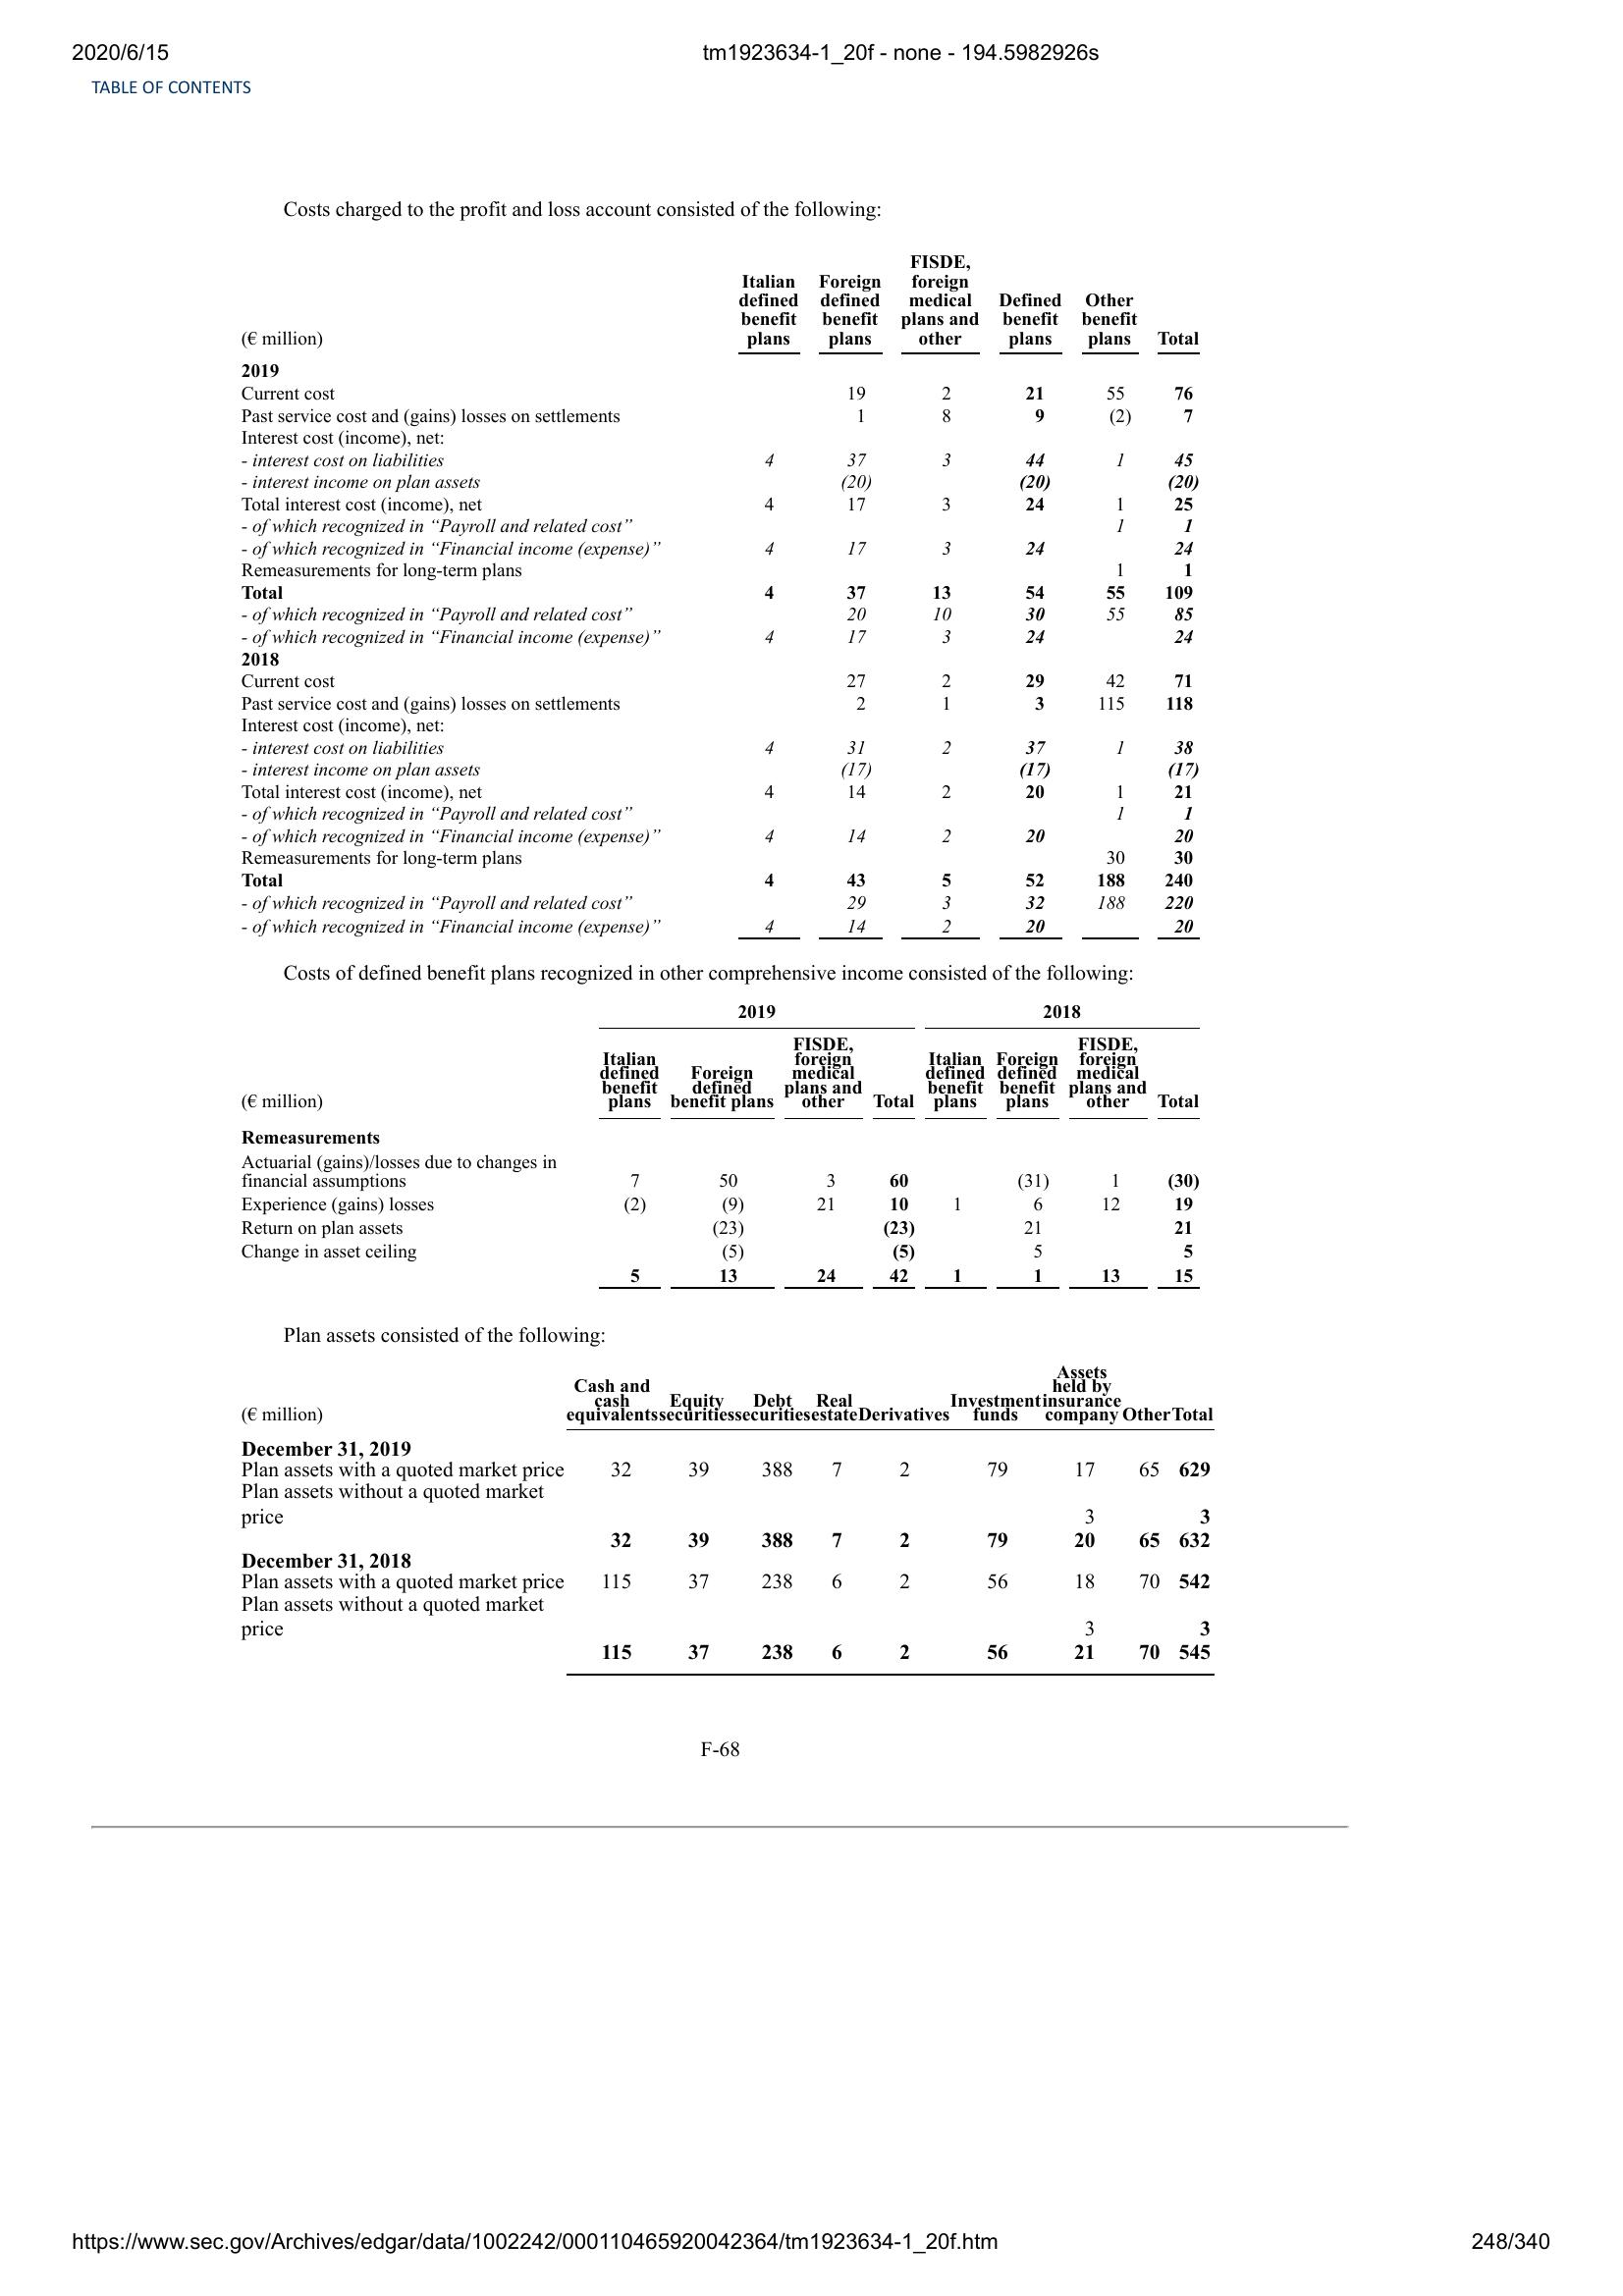table: (227, 248, 1214, 955), (237, 1364, 1223, 1683), (235, 997, 1210, 1295)
